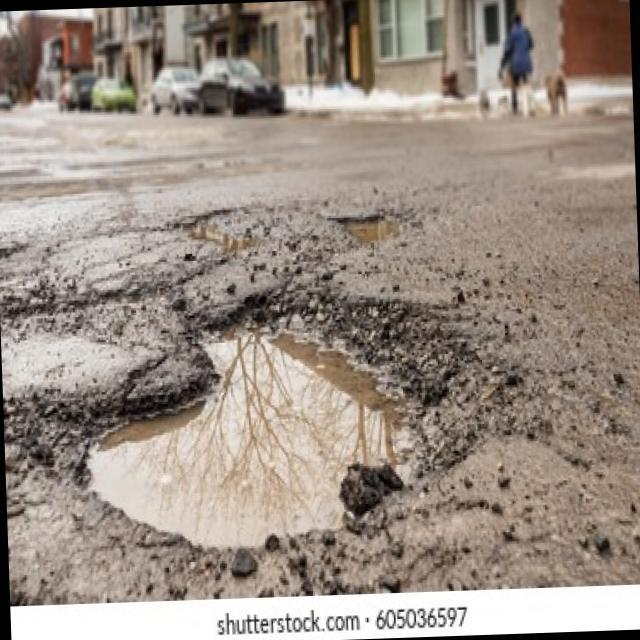Pothole: (72, 290, 446, 556), (176, 206, 256, 256), (340, 206, 406, 250)
